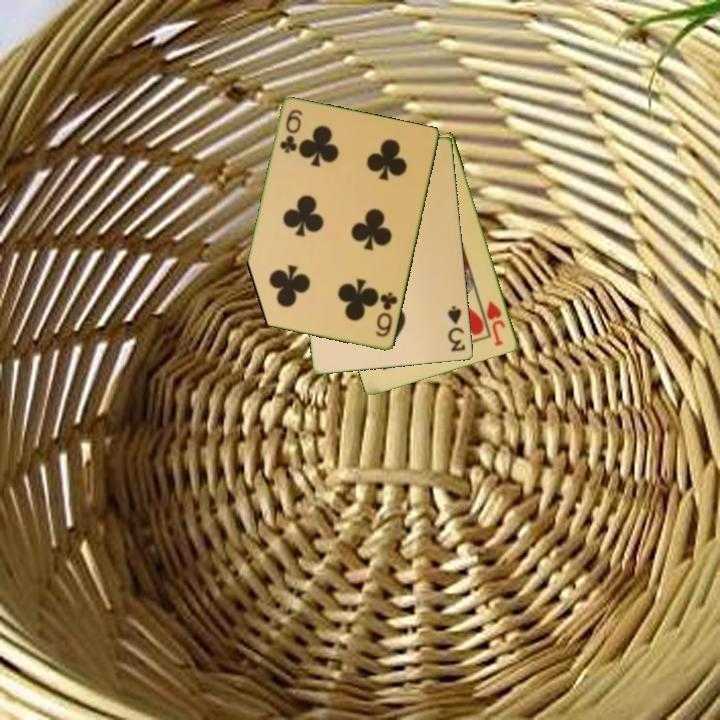3s: (444, 302, 469, 355)
6c: (276, 106, 306, 157), (372, 289, 401, 340)
Jh: (483, 298, 508, 350)
